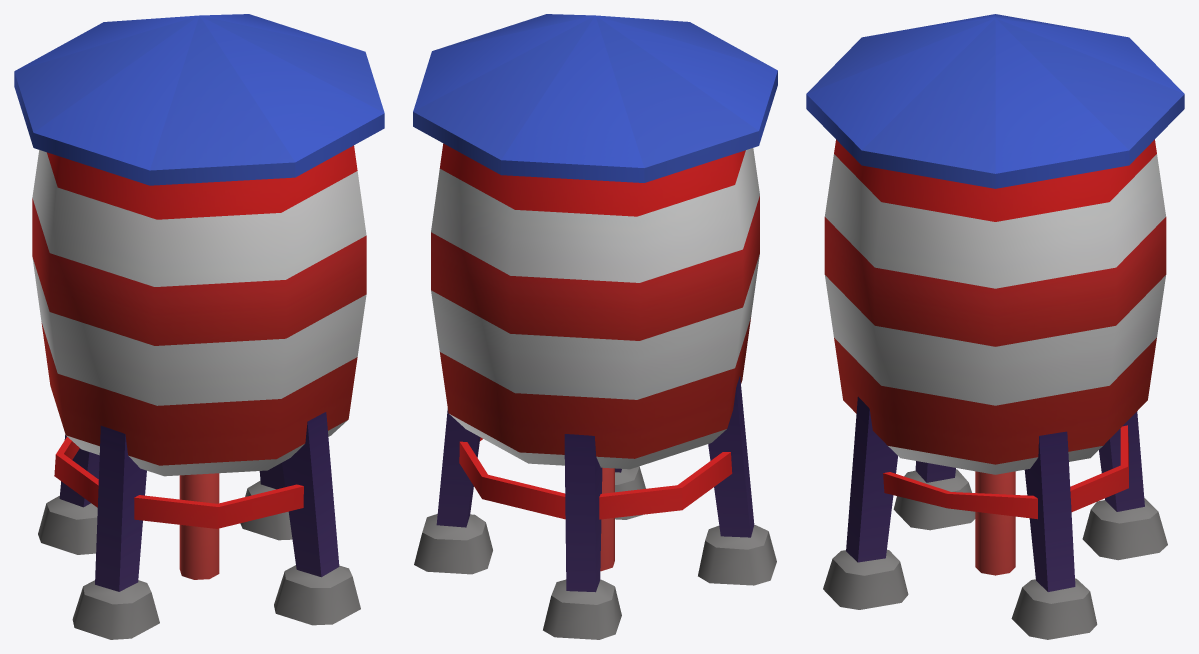
File: WaterTank_1_B.glb
3 renders of one model, left to right at view 1: azimuth 30°, elevation 25°; view 2: azimuth 150°, elevation 25°; view 3: azimuth 270°, elevation 25°, orthographic.
Visible parts, largest first — view 1: WaterTank_1_B; view 2: WaterTank_1_B; view 3: WaterTank_1_B.
Part boxes in pixels (<box>): WaterTank_1_B: <box>14,14,384,639</box>; WaterTank_1_B: <box>413,14,777,639</box>; WaterTank_1_B: <box>806,14,1184,639</box>.
Size of the model in its own units: 1.52 by 2.43 by 1.52.
Materials: 2 (2 with a texture image).
